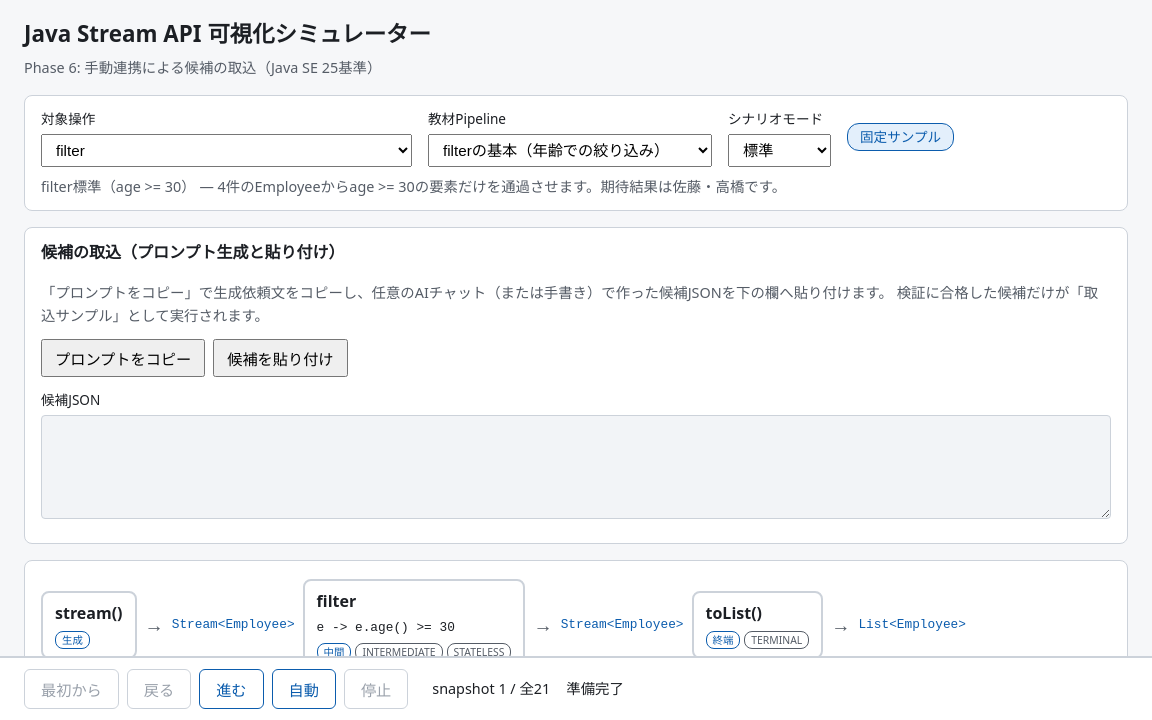
Test: P2 React統合 › P2-R07: active nodeで対応行だけを強調し、コード/説明が同じAST内容を示す
The image size is (1152, 720).
Select "map" in the dropdown with test id "operation-select" at x=226, y=150, box [41,134,412,167]
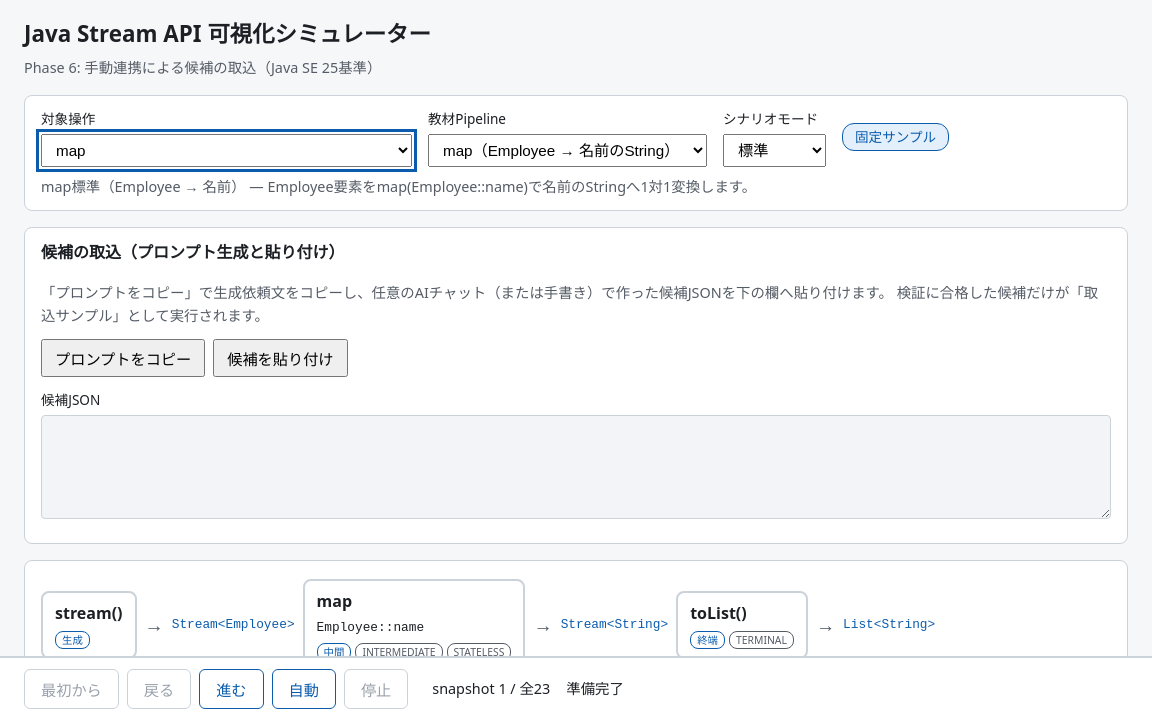
Click the button "進む".
click(231, 689)  # box [199,669,264,709]
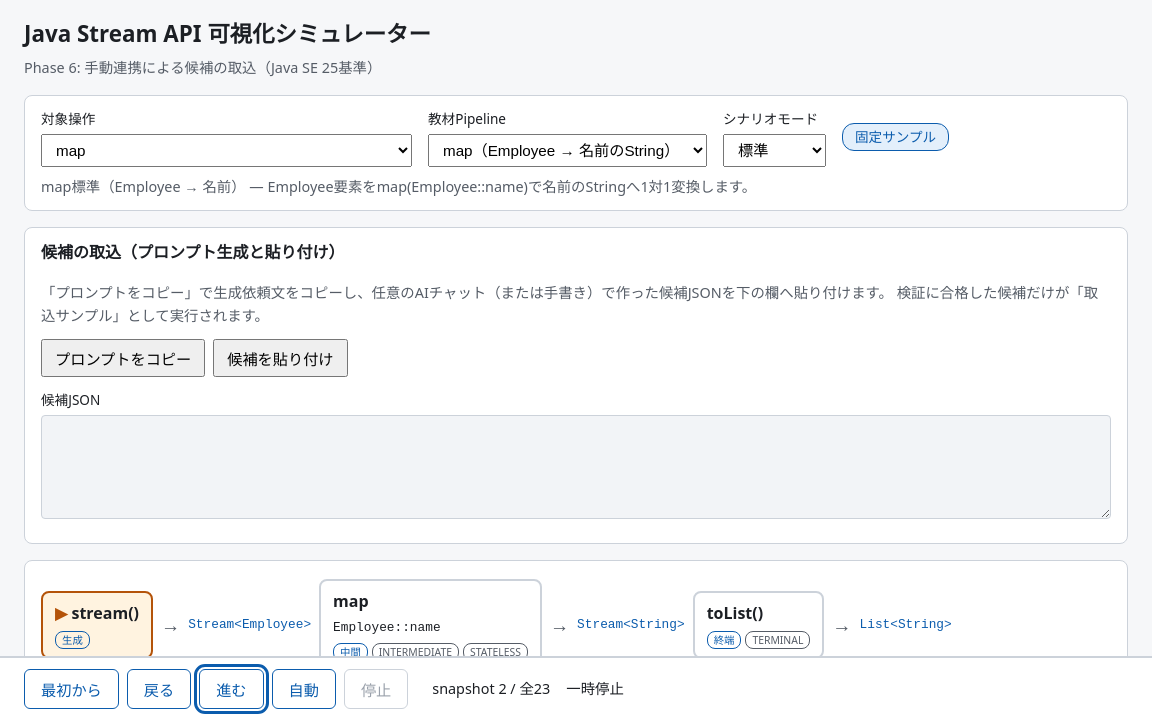
Click the button "進む".
click(231, 689)  # box [199,669,264,709]
(page scrolled)
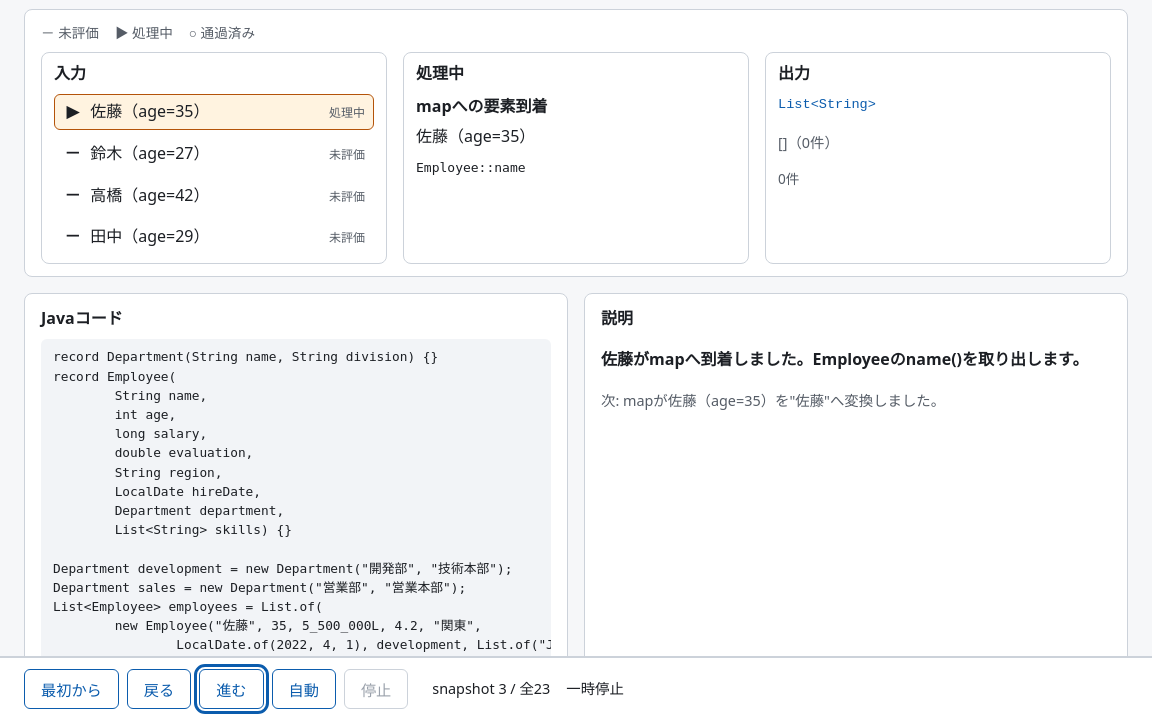
Check: the text with test id "explanation-current" shows "name()", box [601,348,1088,370]
